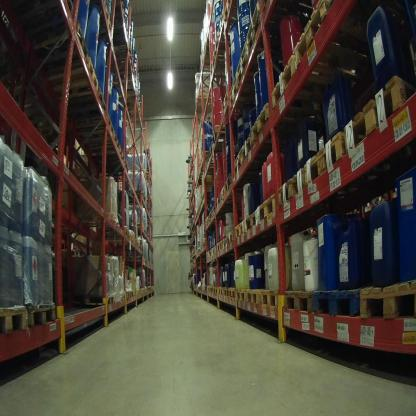pallet: (344, 70, 412, 167), (267, 54, 361, 111), (303, 126, 379, 192), (15, 20, 93, 81), (294, 3, 351, 73), (357, 271, 416, 333), (27, 58, 101, 95), (308, 281, 363, 324), (278, 162, 320, 218), (31, 87, 113, 115), (60, 106, 115, 142), (3, 2, 80, 27), (242, 133, 294, 166), (248, 8, 283, 57), (64, 132, 123, 157), (234, 149, 285, 177), (283, 278, 316, 321), (75, 146, 128, 172), (79, 2, 116, 37), (249, 98, 274, 146), (25, 298, 57, 331), (94, 41, 136, 65), (218, 184, 261, 207), (74, 209, 122, 229), (1, 307, 30, 340), (224, 170, 262, 195), (68, 290, 117, 309), (216, 12, 243, 46), (246, 3, 266, 47), (209, 39, 240, 67), (258, 190, 279, 230), (239, 50, 261, 86), (231, 80, 251, 117), (224, 2, 252, 27), (220, 87, 243, 117), (210, 58, 235, 85), (101, 60, 140, 77), (211, 199, 242, 220), (94, 159, 130, 177), (234, 40, 250, 79), (261, 281, 280, 313), (212, 124, 234, 149), (244, 204, 261, 236), (99, 226, 131, 241), (111, 79, 140, 95), (194, 92, 217, 111), (245, 285, 263, 308), (227, 73, 240, 102), (113, 233, 136, 249), (234, 220, 247, 243), (232, 143, 245, 166), (126, 188, 144, 203), (201, 189, 216, 204), (236, 287, 248, 303), (216, 237, 226, 256), (227, 228, 235, 251), (228, 286, 237, 302), (208, 210, 219, 223), (129, 223, 146, 231), (123, 290, 132, 304), (224, 285, 231, 301), (218, 286, 225, 301), (223, 233, 228, 253), (213, 285, 220, 299), (211, 245, 218, 259), (202, 238, 209, 250), (120, 291, 126, 302), (129, 290, 134, 302), (210, 285, 214, 295), (132, 290, 136, 298)
